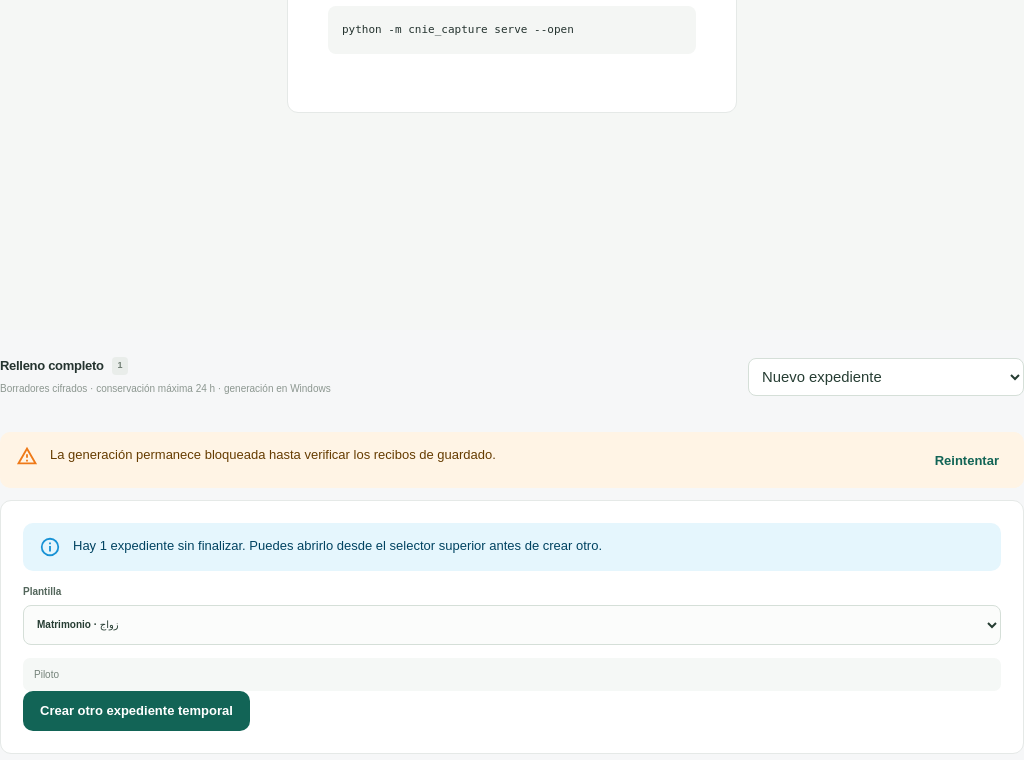
Test: complete case native saving › blocks generation until protected receipt verification succeeds
(page scrolled)
Expected: the text "Piloto" is shown, [23,658,1001,691]
Select "ma.marriage · Revisión final · 13:24" in the dropdown named "Abrir un expediente" at (886, 377), box [748,358,1023,396]
(page scrolled)
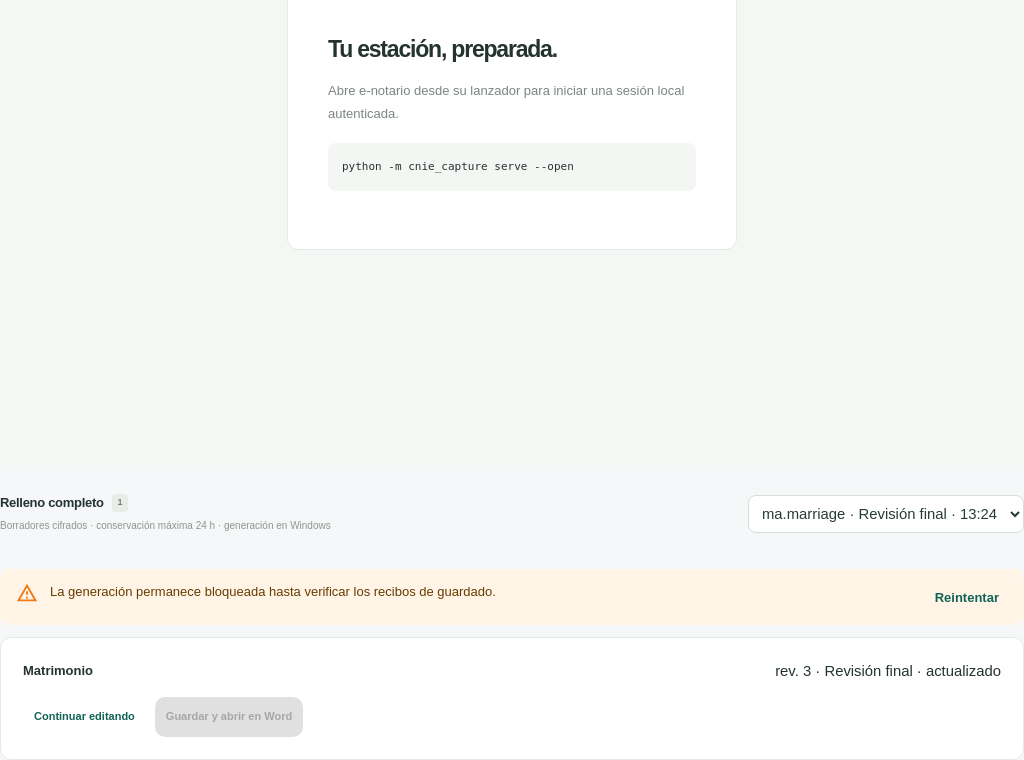
Expected: the text "La generación permanece bloqueada hasta verificar los recibos de guardado." is shown, [50,584,496,599]
Expected: the button "Guardar y abrir en Word" is disabled, [155,697,303,737]
Click the button "Reintentar" at (967, 599), box [918,579,1016,619]
(page scrolled)
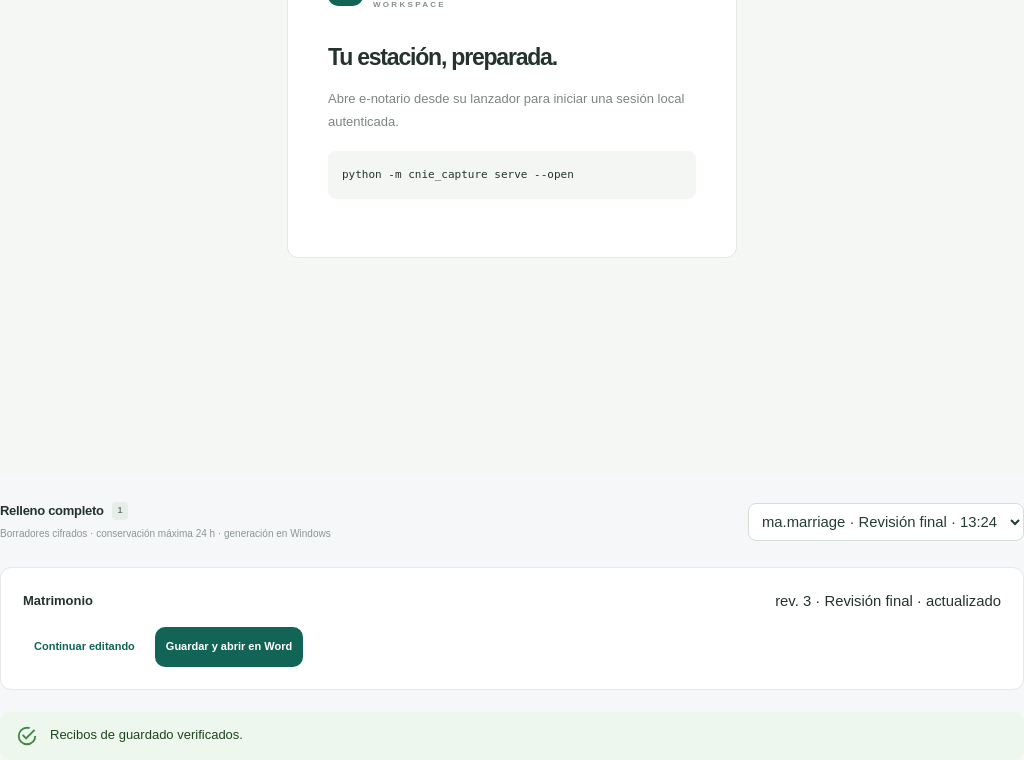
Expected: the button "Guardar y abrir en Word" is enabled, [155,627,303,667]
